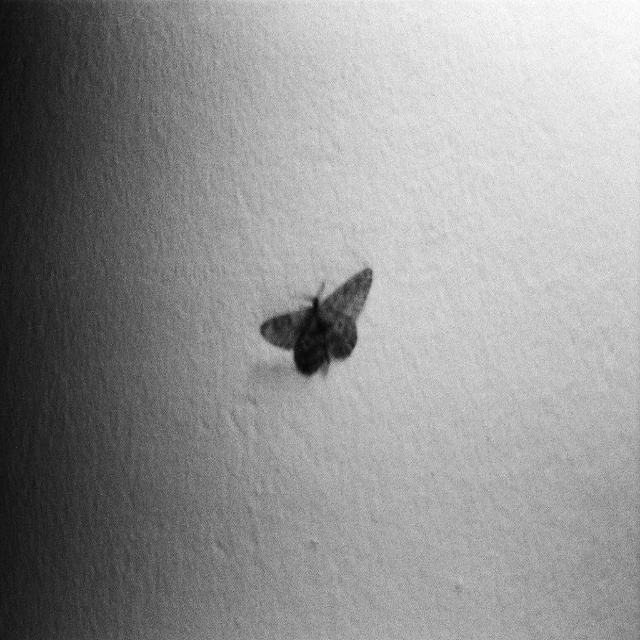Butterfly: (259, 266, 371, 377)
